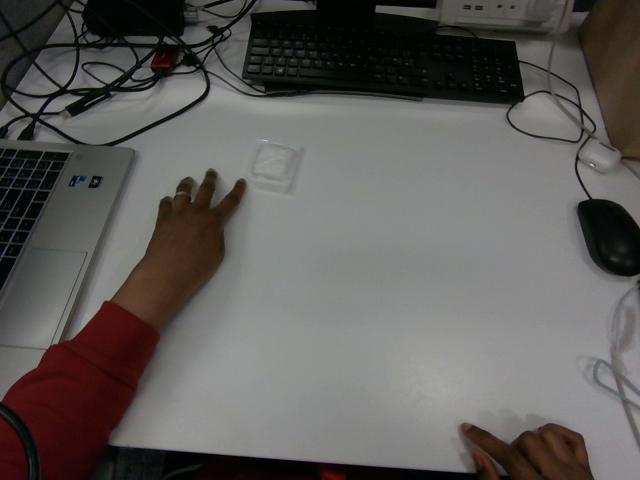gauze: (247, 140, 300, 193)
